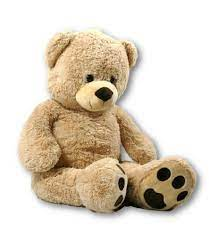teddy: (14, 21, 207, 223)
